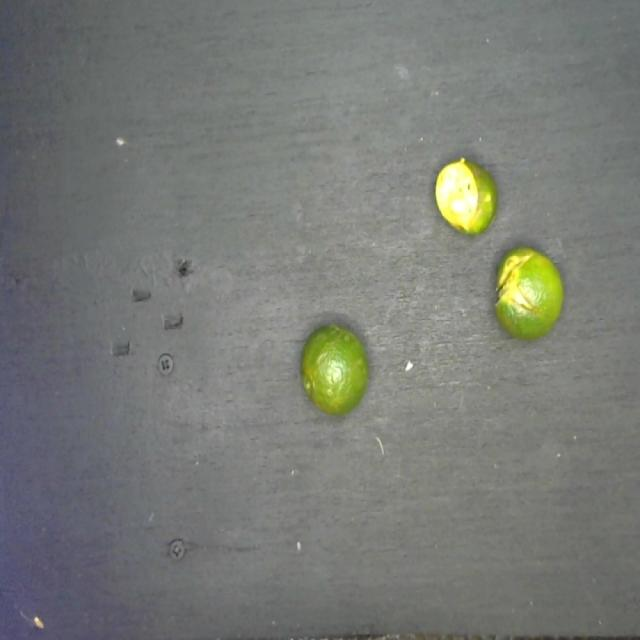biodegradable: (294, 152, 564, 421)
